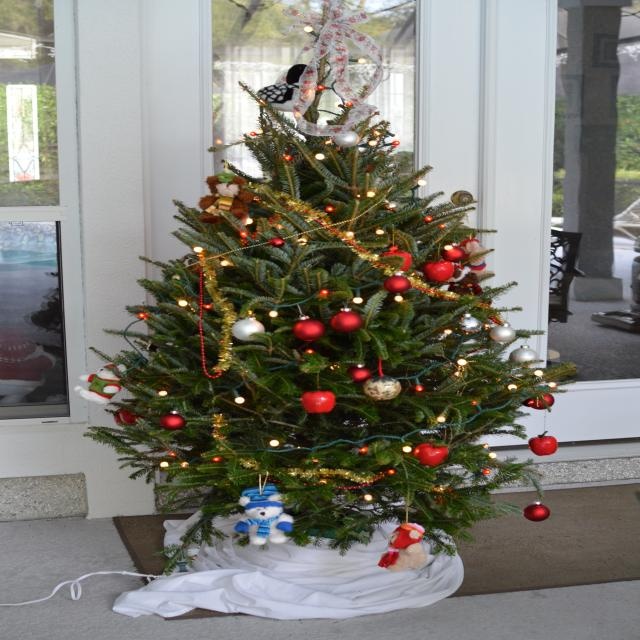Christmas-tree: (41, 63, 620, 520)
